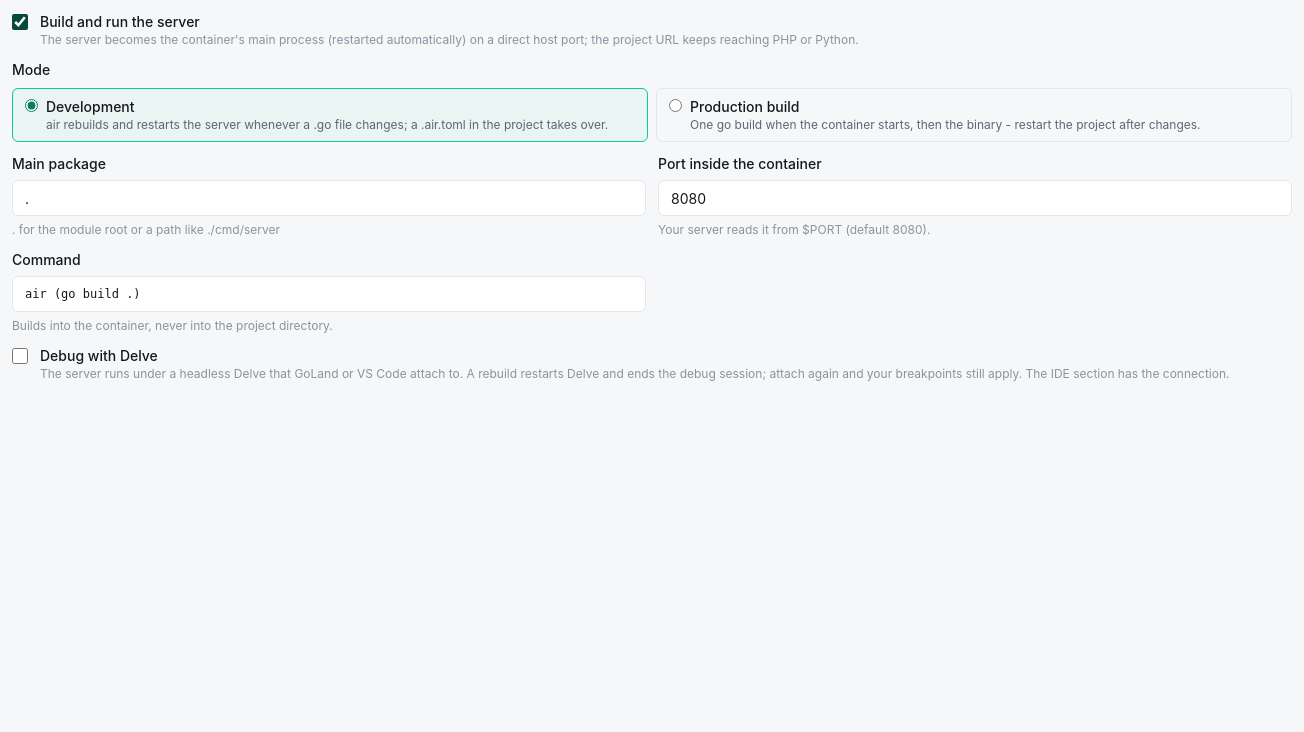
Test: GoServerFields › shows the command for the mode and turns the form into the request
The width and height of the screenshot is (1304, 732).
Expected: the field labelled "Command" holds "air (go build .)", [12, 276, 646, 312]
In the field labelled "Main package": coordinates (329, 198) [12, 180, 646, 216], type "./cmd/server"
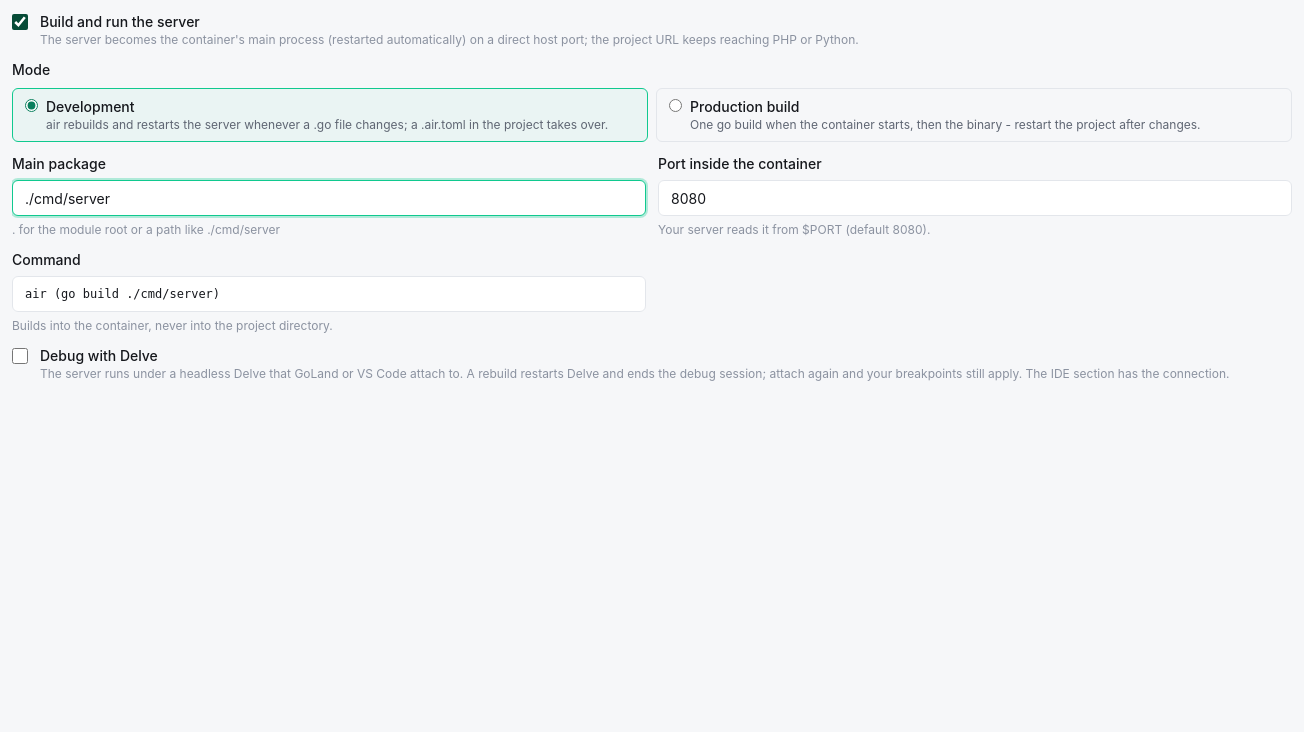
Click the radio button labelled "Production build": coordinates (676, 106) [669, 99, 682, 112]
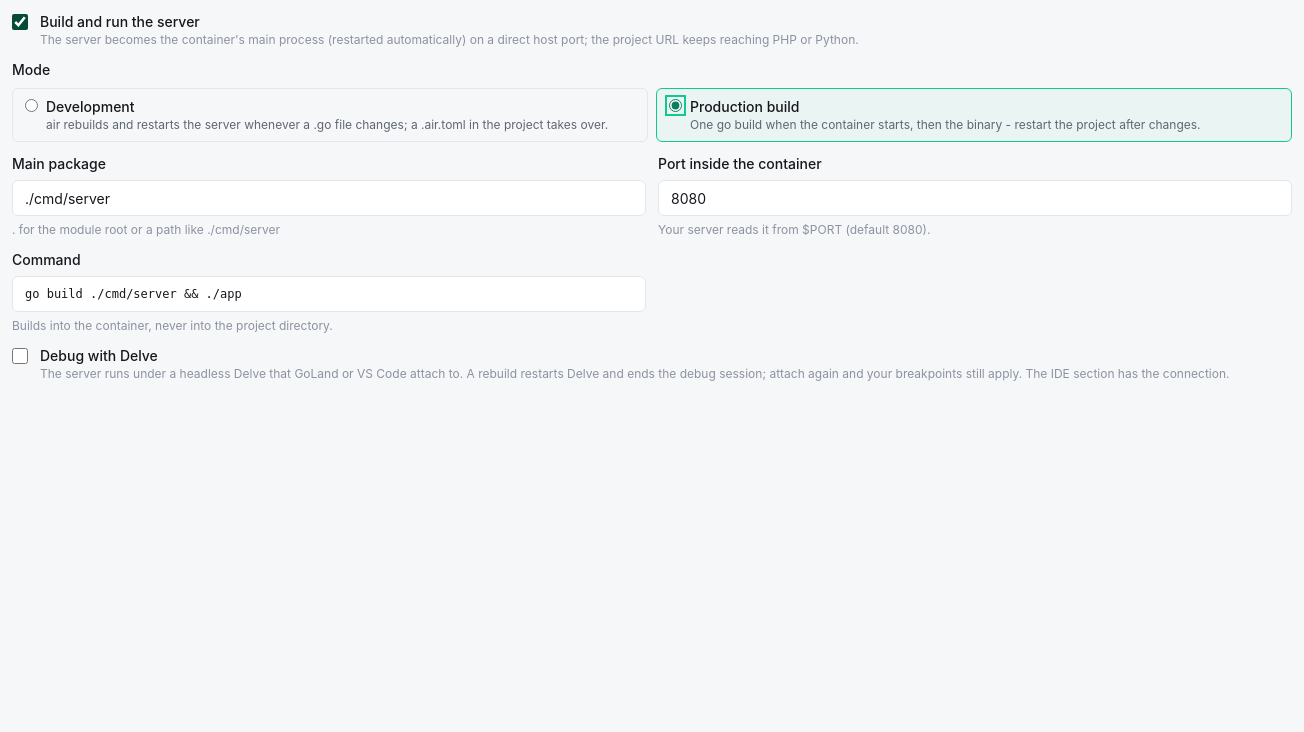
Result: the field labelled "Command" holds "go build ./cmd/server && ./app" at [12, 276, 646, 312]
Click the checkbox labelled "Debug with Delve": coordinates (20, 356) [12, 348, 28, 364]
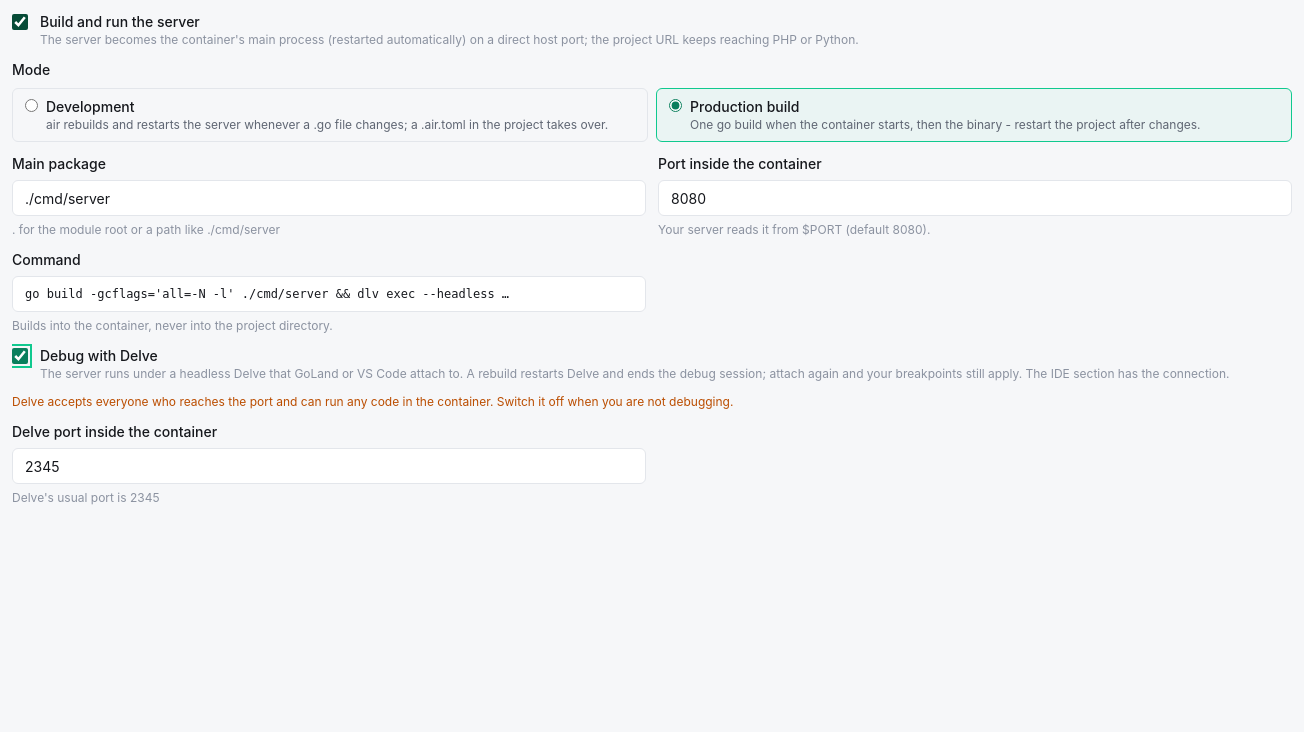
Result: the number field labelled "Delve port inside the container" holds "2345" at [12, 448, 646, 484]
Result: the field labelled "Command" holds "go build -gcflags='all=-N -l' ./cmd/server && dlv exec --headless …" at [12, 276, 646, 312]
